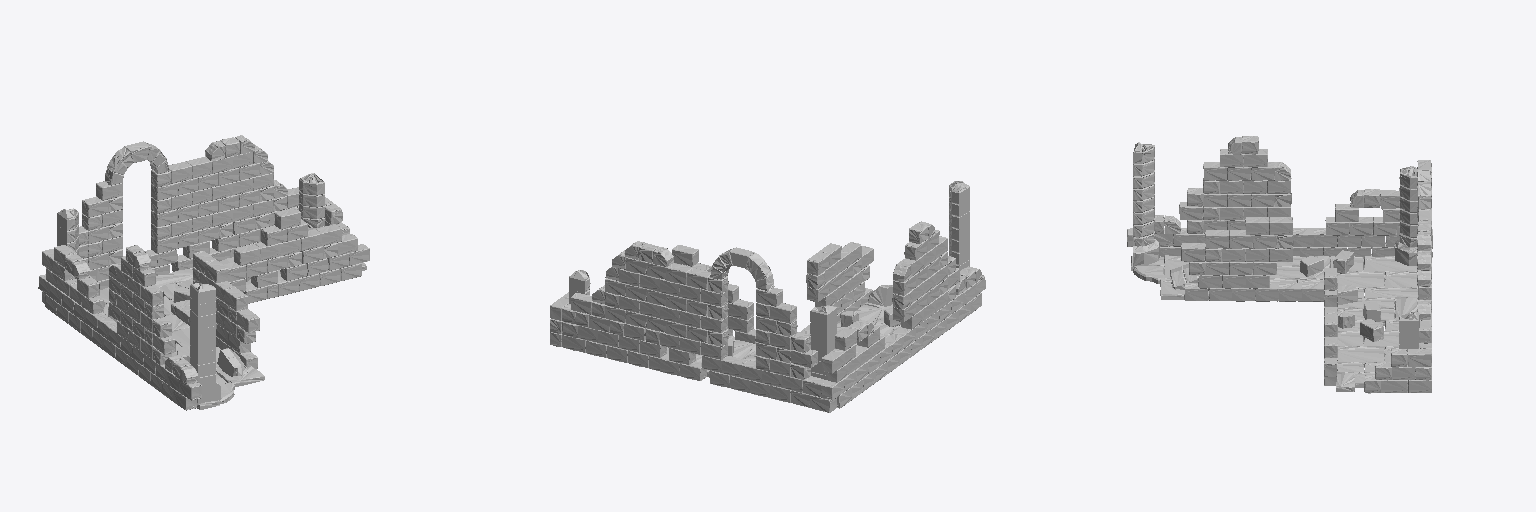
Rendered from pierre ele 9.obj.
The picture shows the model from 3 angles: view 1: azimuth 30°, elevation 25°; view 2: azimuth 150°, elevation 25°; view 3: azimuth 270°, elevation 25°; orthographic projection.
Visible parts, largest first — view 1: brique, pilier, sol; view 2: brique, pilier, sol; view 3: brique, sol, pilier.
Boxes of the visible parts, x1,y1,x2,y2 form: brique: [38, 135, 369, 410]; pilier: [57, 173, 324, 403]; sol: [100, 257, 366, 409]; brique: [550, 221, 985, 412]; pilier: [569, 181, 969, 379]; sol: [667, 302, 900, 377]; brique: [1127, 136, 1432, 393]; sol: [1131, 255, 1417, 391]; pilier: [1133, 142, 1419, 350].
Bounding box in the file's own units: 8.15 × 3.75 × 7.57.